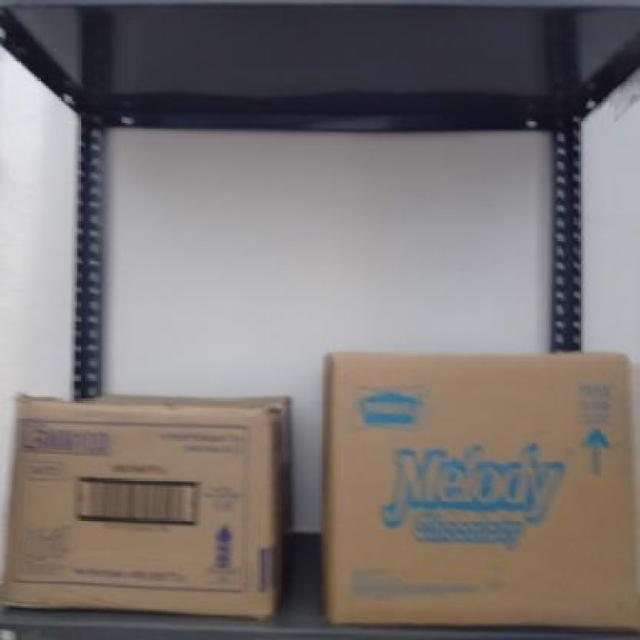box: (326, 350, 640, 633), (0, 405, 275, 603)
